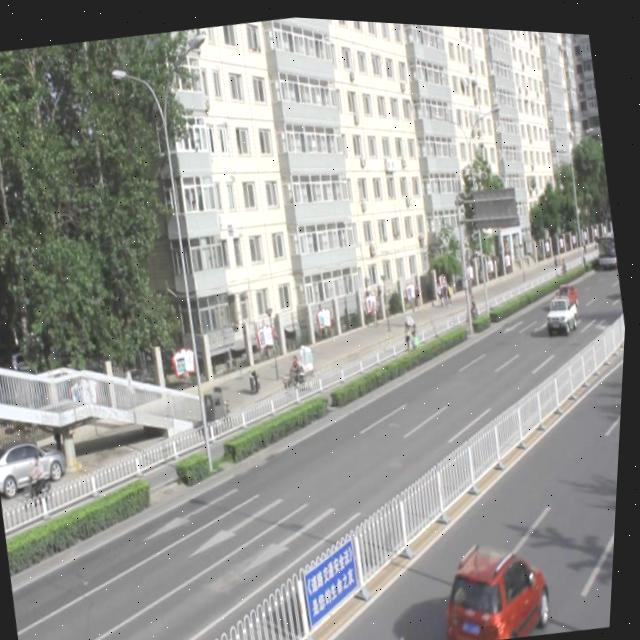car: (436, 523, 559, 640)
